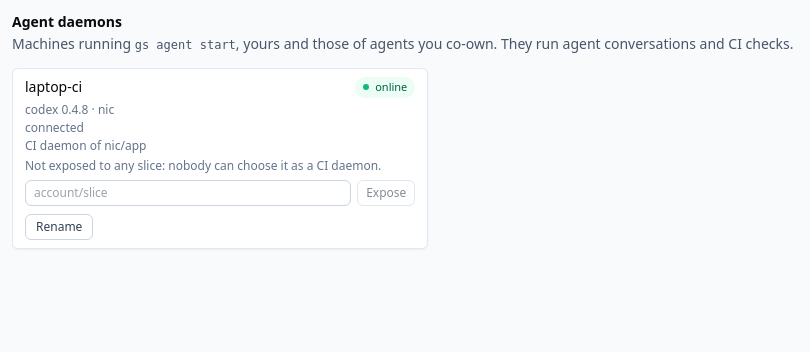
Test: AgentDaemons › shows why a rename was refused
Click the button with aria-label "Rename laptop-ci" at [59, 226], box [25,214,93,240]
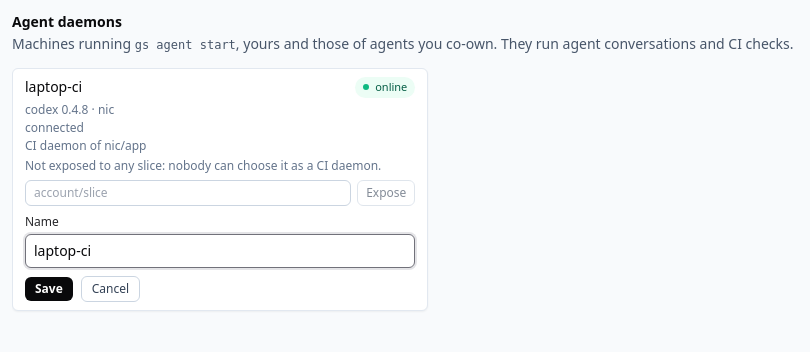
Replace the text in the field labelled "Name" with "Laptop" at [220, 250], box [25,234,415,268]
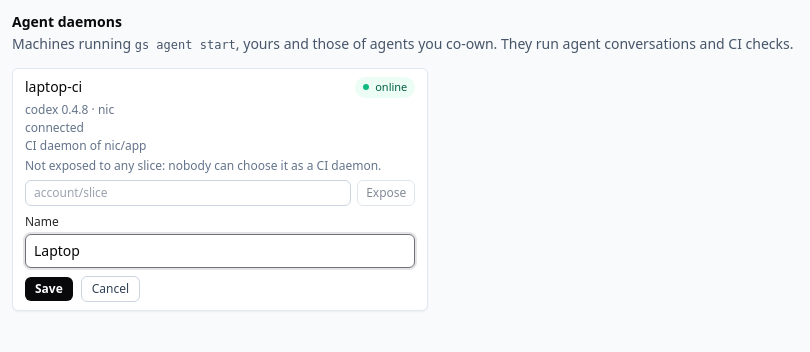
Click the button "Save" at [49, 288], box [25,276,73,300]
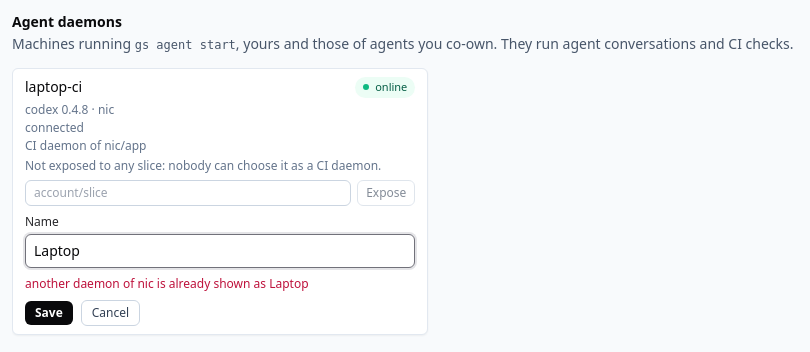
Result: the message shows "already shown as Laptop" at [25,274,309,292]
